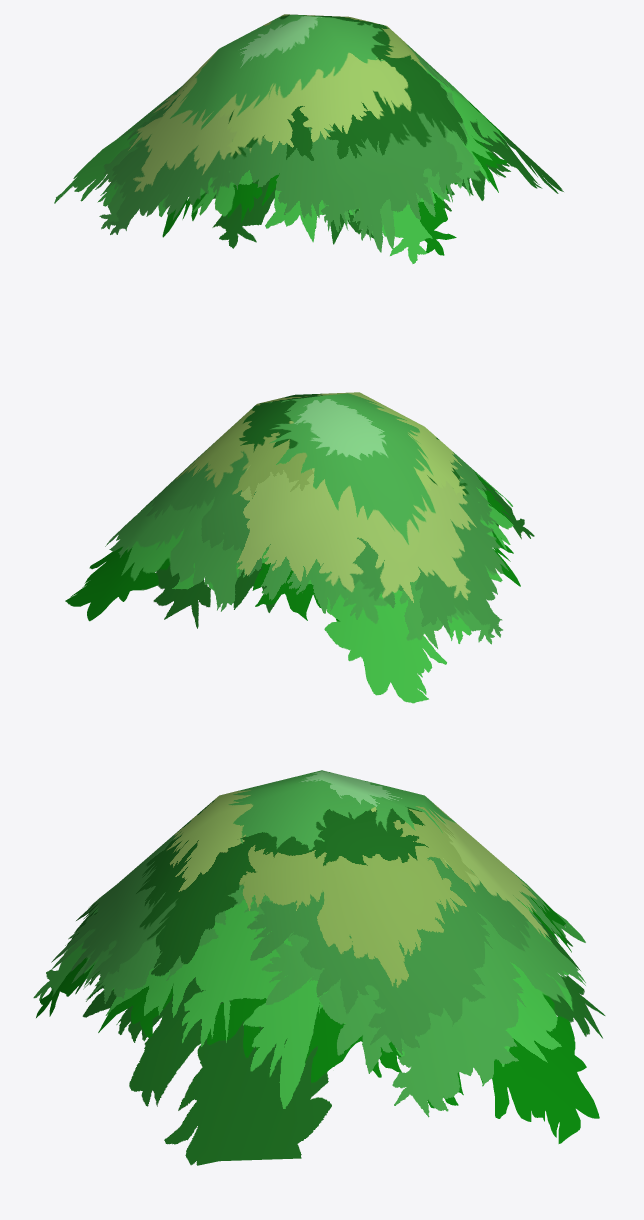
File: Bush.fbx
3 views of the same model, one above another, from view 1: azimuth 30°, elevation 25°; view 2: azimuth 150°, elevation 25°; view 3: azimuth 270°, elevation 25° (orthographic). The views are drawn at different scales.
Visible parts, largest first — view 1: Bush; view 2: Bush; view 3: Bush.
Part boxes in pixels (bbox=[...]): Bush: bbox=[54, 14, 563, 263]; Bush: bbox=[65, 392, 534, 703]; Bush: bbox=[33, 770, 605, 1165].
Bounding box in the file's own units: 200 × 106 × 200.
